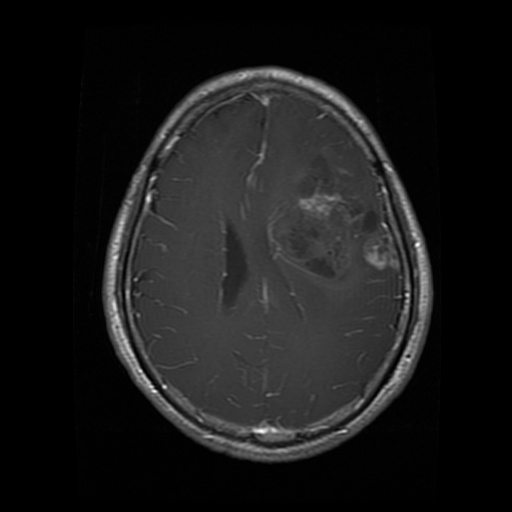glioma: (266, 154, 400, 283)
